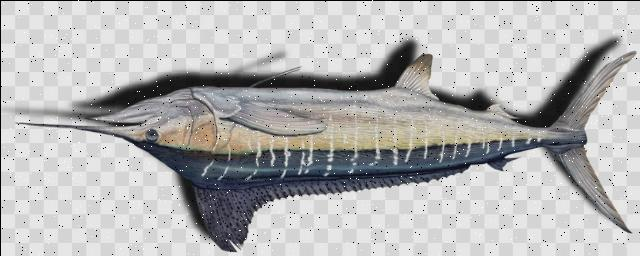Mulut: (8, 88, 162, 158)
Sirip Anal: (472, 90, 526, 182)
Sirip Dada: (210, 86, 330, 146)
Sirip Ekor: (534, 34, 636, 238)
Sirip Perut: (385, 44, 447, 110)
Sirip Punggung: (184, 160, 470, 254)
